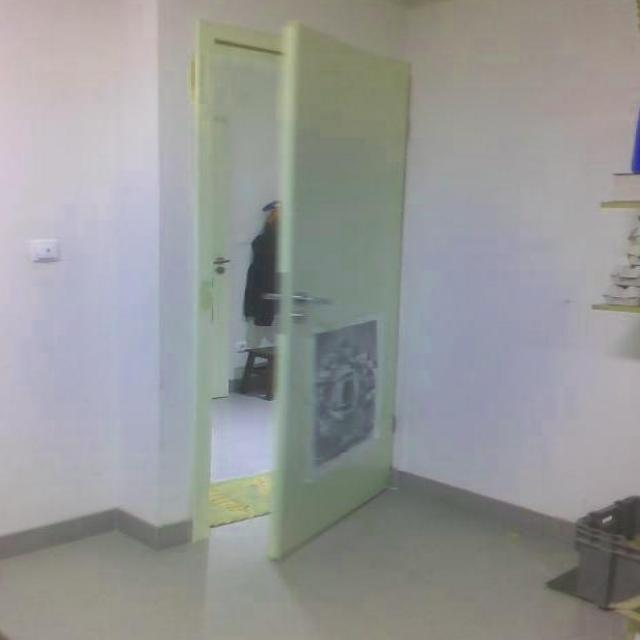door: (260, 14, 418, 556)
